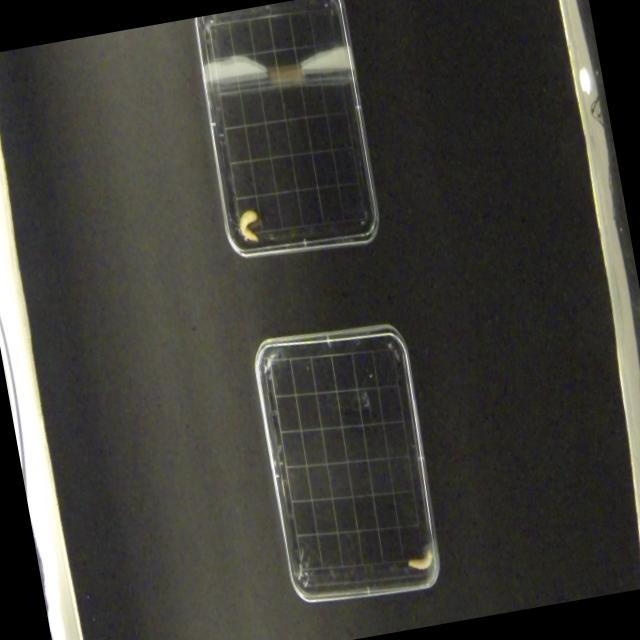larva: (234, 204, 266, 246), (404, 544, 436, 576)
